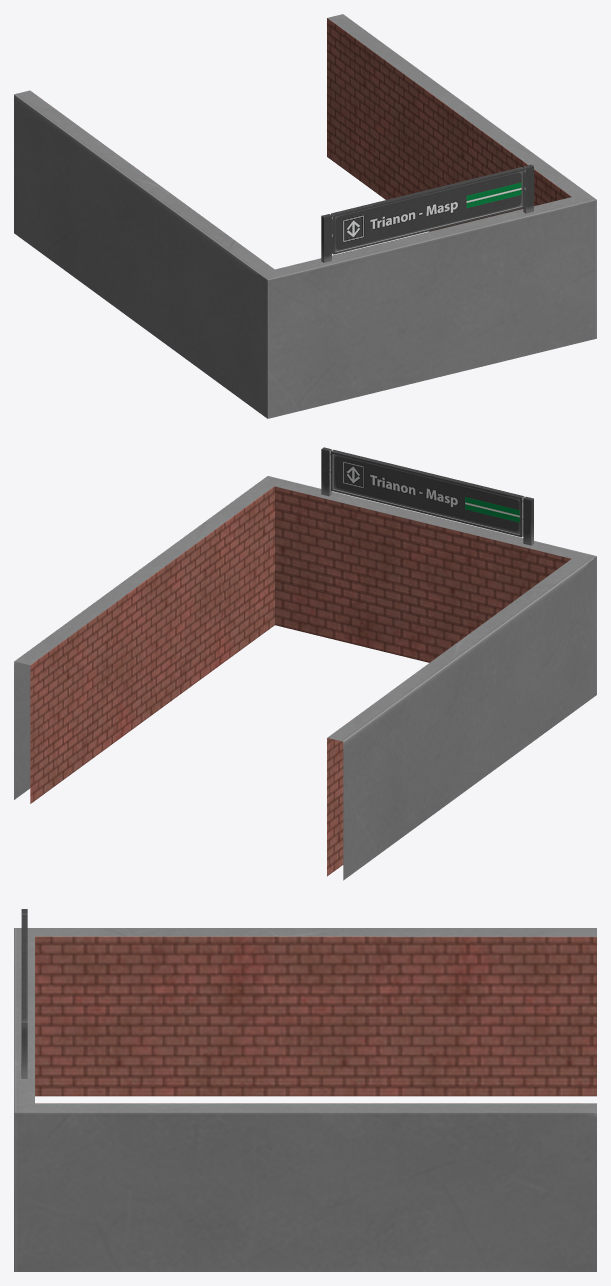
The model's file is metro_simples.fbx.
3 views of the same model, one above another, from view 1: azimuth 30°, elevation 25°; view 2: azimuth 150°, elevation 25°; view 3: azimuth 270°, elevation 25° (orthographic). The views are drawn at different scales.
Parts seen in each view (by area): view 1: MetroSimples; view 2: MetroSimples; view 3: MetroSimples.
Boxes of the visible parts, bbox=[...] form: MetroSimples: bbox=[14, 14, 596, 418]; MetroSimples: bbox=[14, 447, 596, 880]; MetroSimples: bbox=[14, 909, 596, 1271].
Size of the model in its own units: 362 by 194 by 483.
